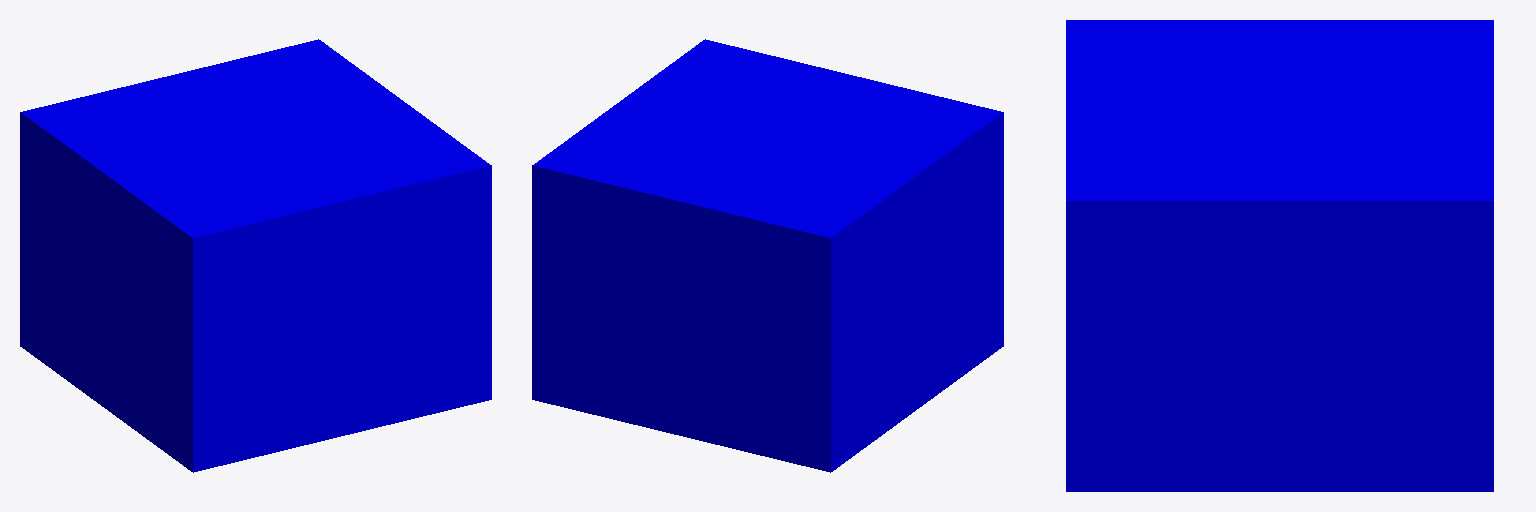
The robot description file, URDF, robot "box":
<?xml version="1.0" encoding="utf-8"?>

<robot name="box">

<link name="box_link">
    <visual>
        <origin xyz="0 0 0.03" rpy="0 0 0"/>
        <geometry>
            <box size="0.1 0.1 0.075"/>
        </geometry>
        <material name="box">
            <color rgba="0 0 1 1"/>
        </material>
    </visual>
    <collision>
         <origin xyz="0 0 0.03" rpy="0 0 0"/>
        <geometry>
           <box size="0.1 0.1 0.075" />
        </geometry>           
    </collision>
    <inertial>
        <mass value="0.05"/>
        <origin xyz="0 0 0.03" rpy="0 0 0"/>
        <inertia ixx="0.001" iyy="0.001" izz="0.001"
                  ixy="0" ixz="0"
                  iyz="0"/>
    </inertial>              
</link>

<gazebo reference="box_link">
    <material>Gazebo/Red</material>
    <mu>100</mu>
    <mu2>100</mu2>
</gazebo>   

</robot>

--- Facts derived from the render (not from the file) ---
3 views of the same robot in one strip: view 1: azimuth 30°, elevation 25°; view 2: azimuth 150°, elevation 25°; view 3: azimuth 270°, elevation 25° (orthographic).
Robot: box — 1 links, 0 joints (none); root link box_link; default pose: all joints at 0.
Visible links, largest first — view 1: box_link; view 2: box_link; view 3: box_link.
Boxes of the visible links, x1,y1,x2,y2 form: box_link: (20,39,491,472); box_link: (532,39,1003,472); box_link: (1066,20,1493,491).
Bounding box of the posed robot: 0.1 × 0.1 × 0.075 m (x, y, z).
Geometry: primitives only (box / cylinder / sphere), no mesh files.